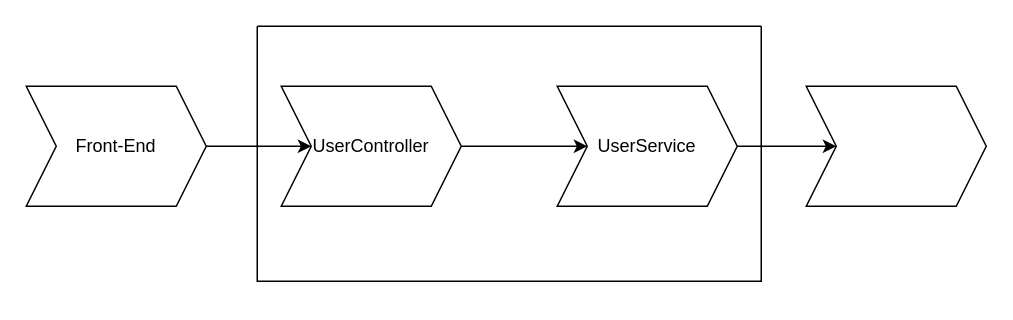
This 1013x320 diagram has some shape labels left out. Each missing label, with the centre of its shape:
"DTO" goes at point 508,153.
"User DAO" goes at point 895,145.
